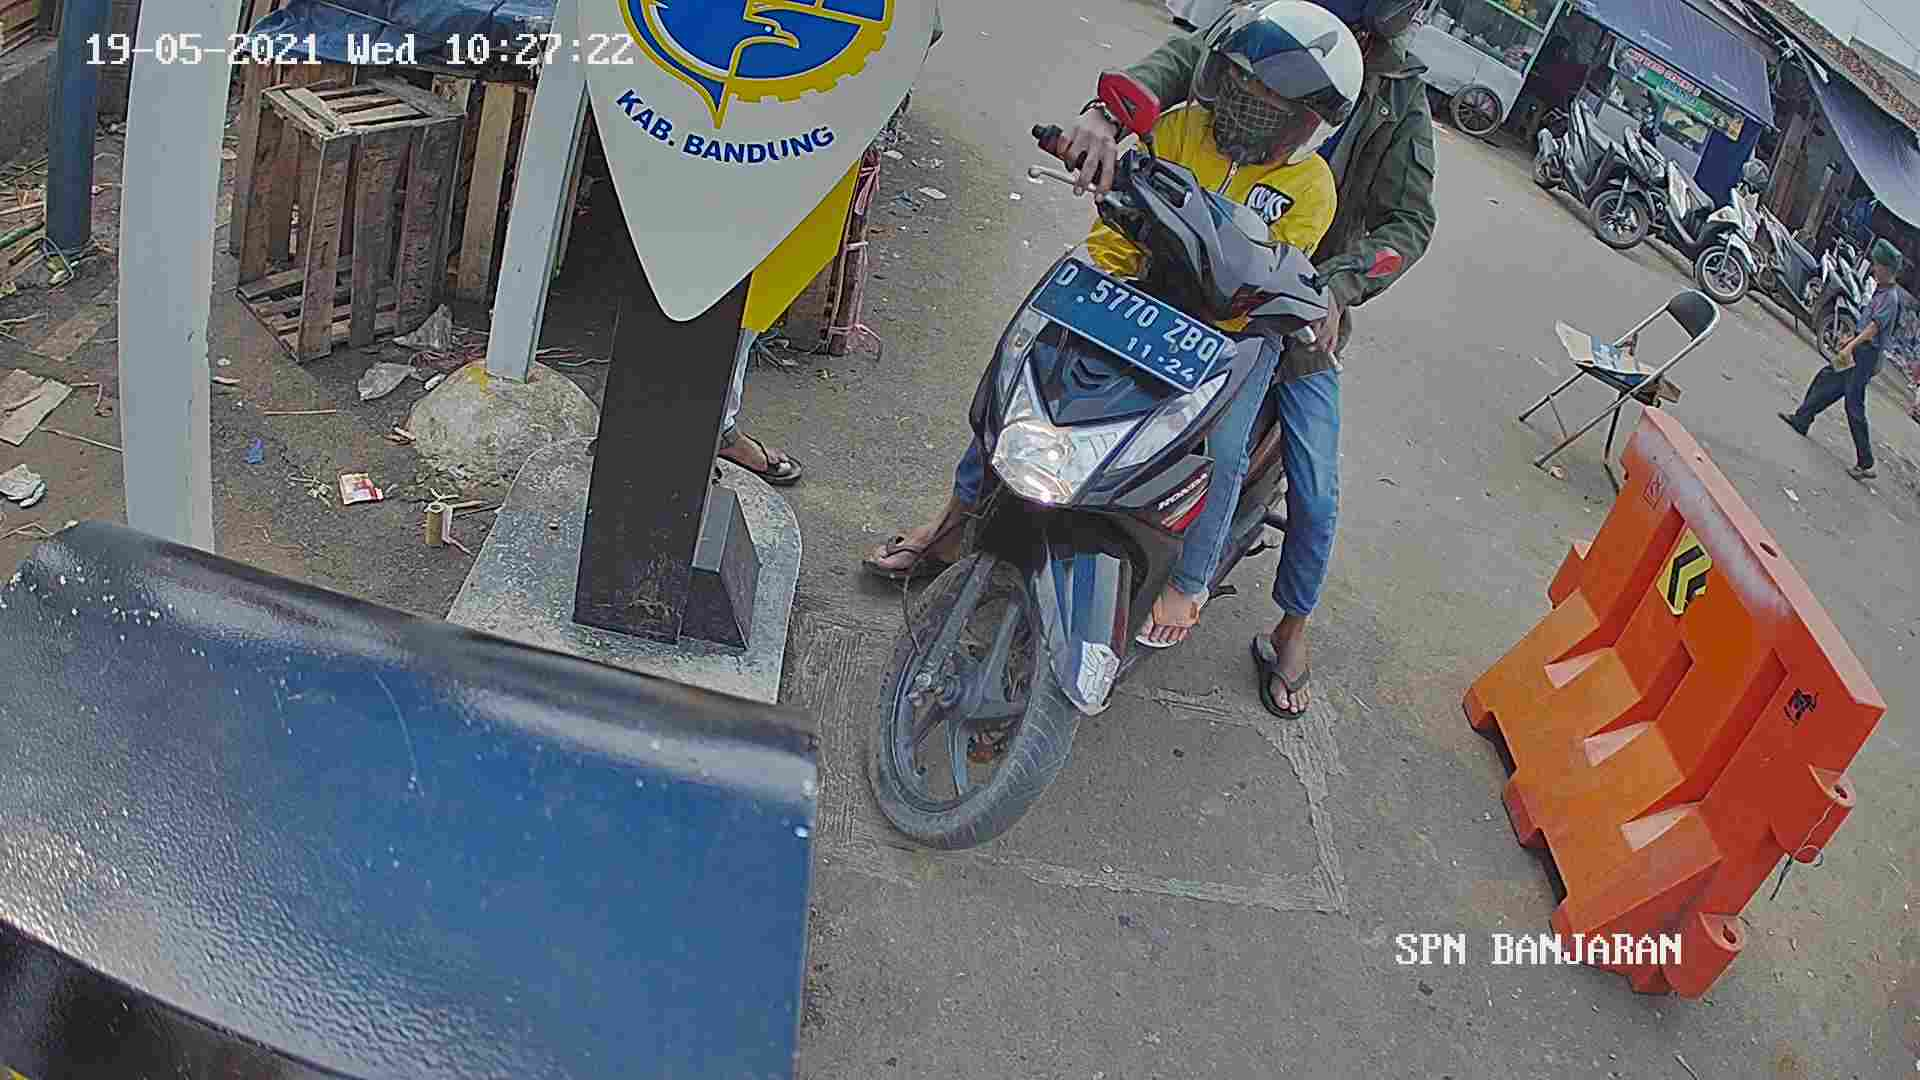motor: (899, 90, 1367, 915)
